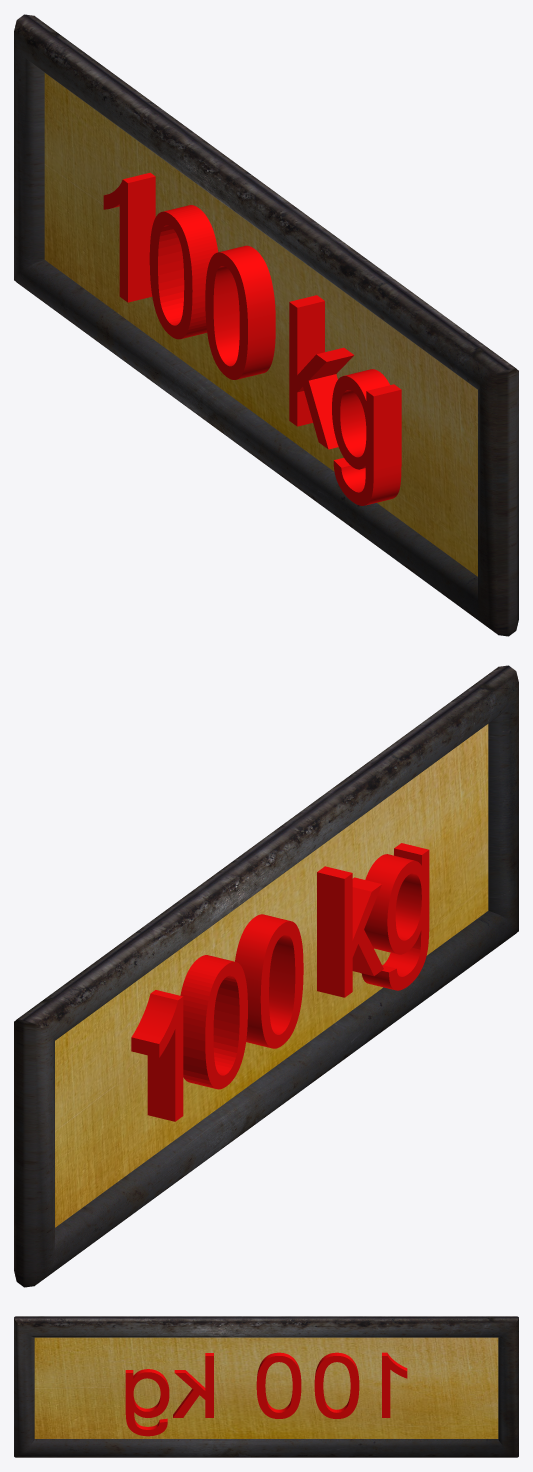
3 views of the same model, one above another, from view 1: azimuth 30°, elevation 25°; view 2: azimuth 150°, elevation 25°; view 3: azimuth 270°, elevation 25° (orthographic). The views are drawn at different scales.
Parts seen in each view (by area): view 1: 图形001, Box003, 加强型文本005; view 2: 图形001, Box003, 加强型文本005; view 3: Box003, 图形001, 加强型文本005.
Boxes of the visible parts, bbox=[...] form: 图形001: bbox=[14, 14, 518, 636]; Box003: bbox=[44, 73, 477, 576]; 加强型文本005: bbox=[103, 172, 401, 505]; 图形001: bbox=[14, 665, 518, 1287]; Box003: bbox=[55, 724, 488, 1227]; 加强型文本005: bbox=[131, 843, 429, 1121]; Box003: bbox=[34, 1337, 498, 1438]; 图形001: bbox=[14, 1316, 518, 1457]; 加强型文本005: bbox=[125, 1352, 407, 1436].
Bounding box in the file's own units: 0.0103 × 0.0577 × 0.1894.
Materials: 3 (2 with a texture image).
